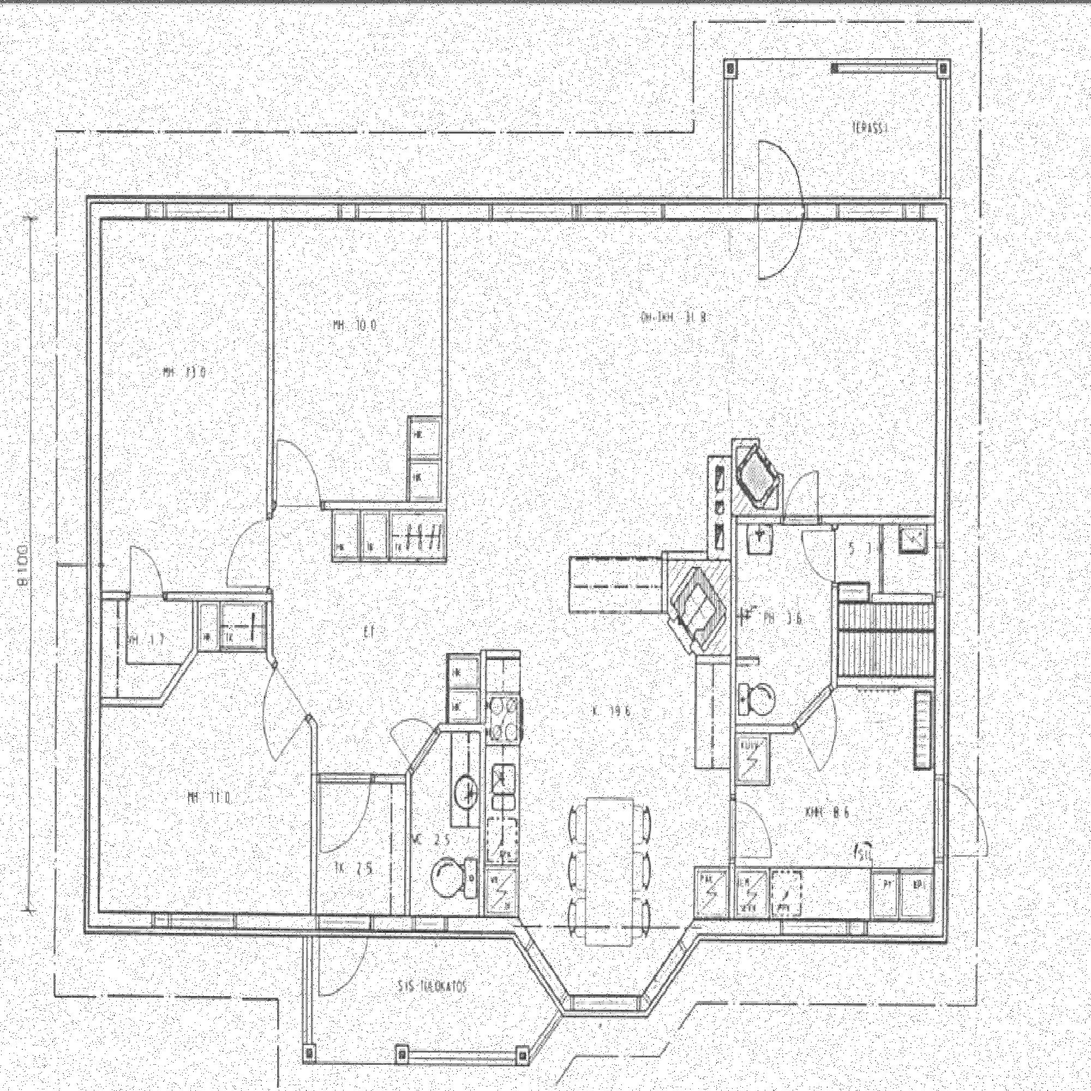wall: (85, 197, 950, 220), (85, 197, 102, 944), (934, 197, 950, 944), (85, 920, 520, 944), (694, 920, 950, 944), (507, 920, 567, 1018), (642, 920, 700, 1018), (266, 653, 317, 729), (266, 220, 272, 657), (792, 677, 837, 734), (706, 456, 730, 561), (723, 220, 730, 561), (160, 648, 198, 706), (561, 994, 649, 1018), (730, 517, 735, 920), (479, 650, 486, 920), (405, 725, 441, 776), (441, 220, 447, 511), (730, 516, 934, 524), (272, 502, 447, 511), (101, 591, 266, 600), (310, 726, 317, 920), (832, 524, 838, 677), (835, 677, 934, 686), (406, 772, 412, 920), (317, 775, 407, 784), (101, 697, 163, 706), (735, 725, 794, 734), (661, 551, 706, 561), (661, 551, 668, 612), (479, 650, 521, 659), (439, 725, 479, 734), (696, 653, 730, 663), (192, 600, 198, 652), (735, 657, 759, 666)
